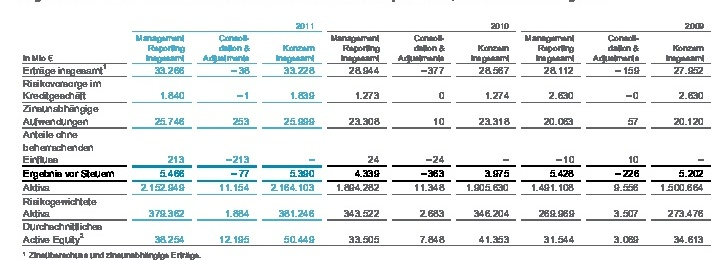table: (0, 0, 725, 260)
